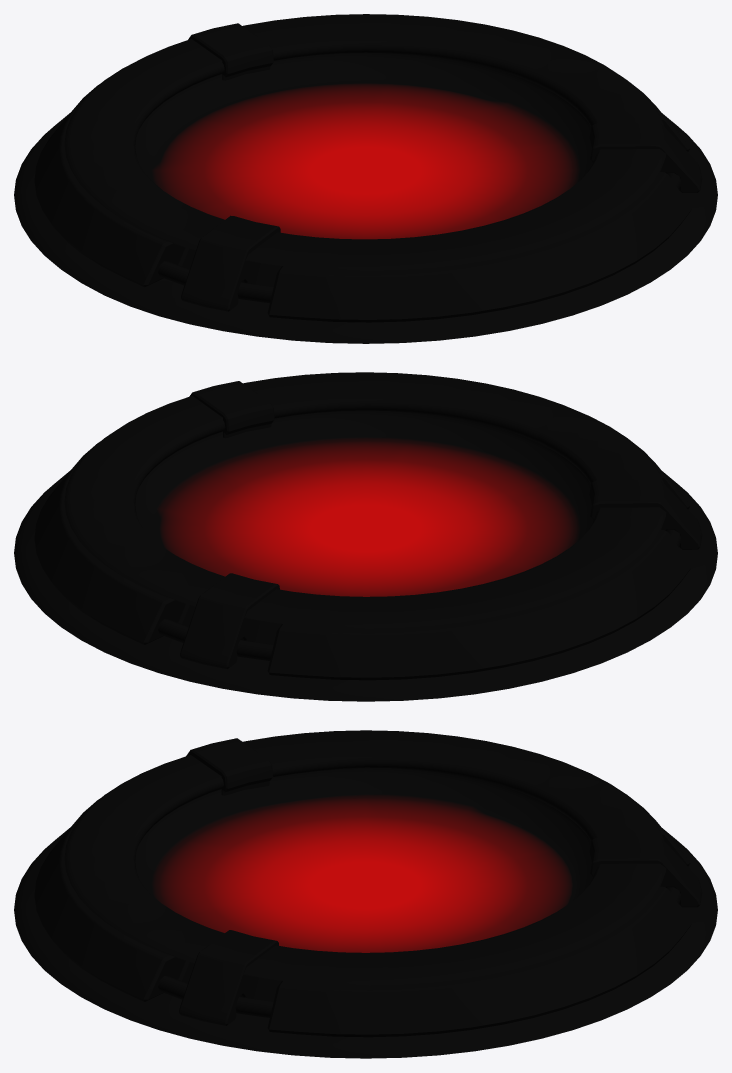
Rendered from Geo_CircularTrampoline.fbx.
3 views of the same model, one above another, from view 1: azimuth 30°, elevation 25°; view 2: azimuth 150°, elevation 25°; view 3: azimuth 270°, elevation 25° (orthographic).
Parts seen in each view (by area): view 1: geo_spawnPad; view 2: geo_spawnPad; view 3: geo_spawnPad.
Part boxes in pixels (x1,y1,x2,y2): geo_spawnPad: (14, 14, 717, 343); geo_spawnPad: (14, 372, 717, 701); geo_spawnPad: (14, 730, 717, 1058).
Size of the model in its own units: 149 by 14.34 by 149.
